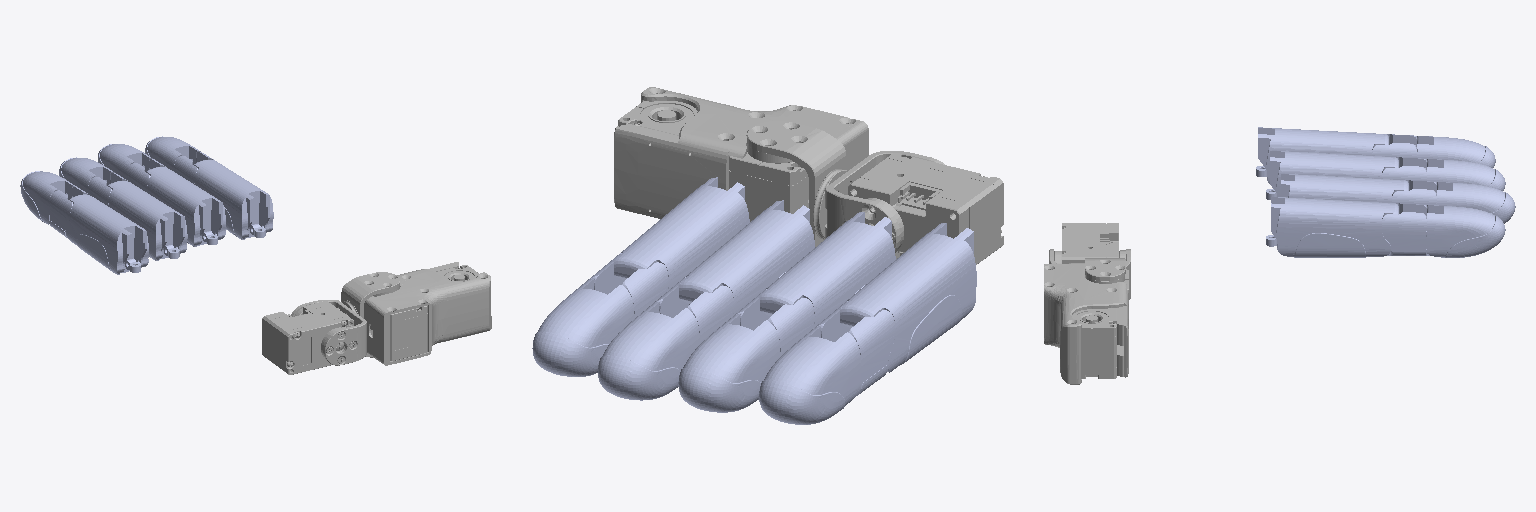
The robot description file, URDF, robot "Dex5-URDF-L":
<robot name="Dex5-URDF-L">
  <mujoco>
    <compiler meshdir="meshes" discardvisual="false"/>
  </mujoco>
  <link name="base_link00L">
    <inertial>
      <origin xyz="-0.0227590758806084 0.027982 0.0119348470032202" rpy="0 0 0"/>
      <mass value="0.732177466301149"/>
      <inertia ixx="4.73937555345999E-04" ixy="1.71786934123191E-05" ixz="9.33281320777651E-07" iyy="5.5298572334445E-04" iyz="1.82790564520838E-05" izz="8.49303641851949E-04"/>
    </inertial>
    <visual>
      <origin xyz="0 0 0" rpy="0 0 0"/>
      <geometry>
        <mesh filename="meshes/base_link00L.STL"/>
      </geometry>
      <material name="">
        <color rgba="0.752941176470588 0.752941176470588 0.752941176470588 0.7"/>
      </material>
    </visual>
    <collision>
      <origin xyz="0 0 0" rpy="0 0 0"/>
      <geometry>
        <mesh filename="meshes/base_link00L.STL"/>
      </geometry>
    </collision>
  </link>
  <link name="Link_11L">
    <inertial>
      <origin xyz="-0.008418 0.000123 -0.003247" rpy="0 0 0"/>
      <mass value="0.02363"/>
      <inertia ixx="2.641049E-06" ixy="1.9442E-08" ixz="1.8132E-07" iyy="3.607134E-06" iyz="5.837E-09" izz="3.860781E-06"/>
    </inertial>
    <visual>
      <origin xyz="0 0 0" rpy="0 0 0"/>
      <geometry>
        <mesh filename="meshes/Link_11L.STL"/>
      </geometry>
      <material name="">
        <color rgba="0.752941176470588 0.752941176470588 0.752941176470588 1"/>
      </material>
    </visual>
    <collision>
      <origin xyz="0 0 0" rpy="0 0 0"/>
      <geometry>
        <mesh filename="meshes/Link_11L.STL"/>
      </geometry>
    </collision>
  </link>
  <joint name="Yaw_11L" type="revolute">
    <origin xyz="0 0 -0.0143499999999992" rpy="0 0 0"/>
    <parent link="base_link00L"/>
    <child link="Link_11L"/>
    <axis xyz="0 0 1"/>
    <limit lower="-0.5867" upper="0.6803" effort="0.93" velocity="4.18"/>
  </joint>
  <link name="Link_12L">
    <inertial>
      <origin xyz="0.014668 0.000013 -0.004099" rpy="0 0 0"/>
      <mass value="0.015809"/>
      <inertia ixx="3.066476E-06" ixy="-4.497E-9" ixz="2.22721E-7" iyy="4.049699E-06" iyz="1.404E-9" izz="3.627081E-06"/>
    </inertial>
    <visual>
      <origin xyz="0 0 0" rpy="0 0 0"/>
      <geometry>
        <mesh filename="meshes/Link_12L.STL"/>
      </geometry>
      <material name="">
        <color rgba="0.752941176470588 0.752941176470588 0.752941176470588 1"/>
      </material>
    </visual>
    <collision>
      <origin xyz="0 0 0" rpy="0 0 0"/>
      <geometry>
        <mesh filename="meshes/Link_12L.STL"/>
      </geometry>
    </collision>
  </link>
  <joint name="Roll_12L" type="revolute">
    <origin xyz="-1.0604101991607E-05 0 0" rpy="1.5707963267949 0 0"/>
    <parent link="Link_11L"/>
    <child link="Link_12L"/>
    <axis xyz="0 0 1"/>
    <limit lower="-1.8151" upper="0" effort="0.93" velocity="4.18"/>
  </joint>
  <link name="Link_13L">
    <inertial>
      <origin xyz="0.018557 -0.006933 0.000159" rpy="0 0 0"/>
      <mass value="0.06674"/>
      <inertia ixx="9.105565E-06" ixy="-1.948696E-06" ixz="2.9291E-08" iyy="2.2925394E-05" iyz="-0.816E-09" izz="2.3878954E-05"/>
    </inertial>
    <visual>
      <origin xyz="0 0 0" rpy="0 0 0"/>
      <geometry>
        <mesh filename="meshes/Link_13L.STL"/>
      </geometry>
      <material name="">
        <color rgba="0.752941176470588 0.752941176470588 0.752941176470588 1"/>
      </material>
    </visual>
    <collision>
      <origin xyz="0 0 0" rpy="0 0 0"/>
      <geometry>
        <mesh filename="meshes/Link_13L.STL"/>
      </geometry>
    </collision>
  </link>
  <joint name="Pitch_13L" type="revolute">
    <origin xyz="0.0334999999999999 0 -0.00600000000003837" rpy="-1.57079632679489 0 0"/>
    <parent link="Link_12L"/>
    <child link="Link_13L"/>
    <axis xyz="0 0 1"/>
    <limit lower="0" upper="1.7652" effort="0.93" velocity="4.18"/>
  </joint>
  <link name="Link_14L">
    <inertial>
      <origin xyz="0.028085 0.003322 0.000472" rpy="0 0 0"/>
      <mass value="0.020073"/>
      <inertia ixx="1.93782E-06" ixy="-1.69818E-07" ixz="1.24848E-07" iyy="6.083181E-06" iyz="2.0791E-08" izz="5.614839E-06"/>
    </inertial>
    <visual>
      <origin xyz="0 0 0" rpy="0 0 0"/>
      <geometry>
        <mesh filename="meshes/Link_14L.STL"/>
      </geometry>
      <material name="">
        <color rgba="0.752941176470588 0.752941176470588 0.752941176470588 1"/>
      </material>
    </visual>
    <collision>
      <origin xyz="0 0 0" rpy="0 0 0"/>
      <geometry>
        <mesh filename="meshes/Link_14L.STL"/>
      </geometry>
    </collision>
  </link>
  <joint name="Pitch_14L" type="revolute">
    <origin xyz="0.0366088275363755 -0.00536597803648681 0" rpy="0 0 0"/>
    <parent link="Link_13L"/>
    <child link="Link_14L"/>
    <axis xyz="0 0 1"/>
    <limit lower="0" upper="1.6406" effort="0.93" velocity="4.18"/>
  </joint>
  <link name="Link_21L">
    <inertial>
      <origin xyz="0.007826 -0.000005 -0.004125" rpy="0 0 0"/>
      <mass value="0.004497"/>
      <inertia ixx="8.9889E-08" ixy="-4.9E-11" ixz="3.7079E-08" iyy="1.37514E-07" iyz="-1.18E-10" izz="9.6125E-08"/>
    </inertial>
    <visual>
      <origin xyz="0 0 0" rpy="0 0 0"/>
      <geometry>
        <mesh filename="meshes/Link_21L.STL"/>
      </geometry>
      <material name="">
        <color rgba="0.792156862745098 0.819607843137255 0.933333333333333 1"/>
      </material>
    </visual>
    <collision>
      <origin xyz="0 0 0" rpy="0 0 0"/>
      <geometry>
        <mesh filename="meshes/Link_21L.STL"/>
      </geometry>
    </collision>
  </link>
  <joint name="Roll_21L" type="revolute">
    <origin xyz="0.0100000000000016 0.0731433586578309 0.00347021644327265" rpy="-3.14159265358979 0 1.5707963267949"/>
    <parent link="base_link00L"/>
    <child link="Link_21L"/>
    <axis xyz="0 0 1"/>
    <limit lower="-0.38397" upper="0.38397" effort="0.93" velocity="0.76794"/>
  </joint>
  <link name="Link_22L">
    <inertial>
      <origin xyz="0.021242 -0.005936 0.000059" rpy="0 0 0"/>
      <mass value="0.017982"/>
      <inertia ixx="1.206794E-06" ixy="-1.30843E-07" ixz="-2.335E-09" iyy="4.081109E-06" iyz="1.219E-09" izz="4.370124E-06"/>
    </inertial>
    <visual>
      <origin xyz="0 0 0" rpy="0 0 0"/>
      <geometry>
        <mesh filename="meshes/Link_22L.STL"/>
      </geometry>
      <material name="">
        <color rgba="0.792156862745098 0.819607843137255 0.933333333333333 1"/>
      </material>
    </visual>
    <collision>
      <origin xyz="0 0 0" rpy="0 0 0"/>
      <geometry>
        <mesh filename="meshes/Link_22L.STL"/>
      </geometry>
    </collision>
  </link>
  <joint name="Pitch_22L" type="revolute">
    <origin xyz="0.00419999999999998 0 0" rpy="1.5707963267949 0 0"/>
    <parent link="Link_21L"/>
    <child link="Link_22L"/>
    <axis xyz="0 0 1"/>
    <limit lower="0" upper="1.5708" effort="0.93" velocity="3.1416"/>
  </joint>
  <link name="Link_23L">
    <inertial>
      <origin xyz="0.011393 -0.005777 0.000001" rpy="0 0 0"/>
      <mass value="0.012776"/>
      <inertia ixx="6.38115E-07" ixy="5.5121E-08" ixz="-4.97E-10" iyy="6.31505E-07" iyz="-1.43E-10" izz="8.2943E-07"/>
    </inertial>
    <visual>
      <origin xyz="0 0 0" rpy="0 0 0"/>
      <geometry>
        <mesh filename="meshes/Link_23L.STL"/>
      </geometry>
      <material name="">
        <color rgba="0.792156862745098 0.819607843137255 0.933333333333333 1"/>
      </material>
    </visual>
    <collision>
      <origin xyz="0 0 0" rpy="0 0 0"/>
      <geometry>
        <mesh filename="meshes/Link_23L.STL"/>
      </geometry>
    </collision>
  </link>
  <joint name="Pitch_23L" type="revolute">
    <origin xyz="0.039999999999998 0 0" rpy="0 0 0"/>
    <parent link="Link_22L"/>
    <child link="Link_23L"/>
    <axis xyz="0 0 1"/>
    <limit lower="0" upper="1.684242699" effort="0.93" velocity="3.3685"/>
  </joint>
  <link name="Link_24L">
    <inertial>
      <origin xyz="0.009354 -0.004824 0.000072" rpy="0 0 0"/>
      <mass value="0.00639891165893413"/>
      <inertia ixx="4.9531E-07" ixy="-1.09285E-07" ixz="8.84E-10" iyy="1.466772E-06" iyz="4.47E-10" izz="1.448234E-06"/>
    </inertial>
    <visual>
      <origin xyz="0 0 0" rpy="0 0 0"/>
      <geometry>
        <mesh filename="meshes/Link_24L.STL"/>
      </geometry>
      <material name="">
        <color rgba="0.792156862745098 0.819607843137255 0.933333333333333 1"/>
      </material>
    </visual>
    <collision>
      <origin xyz="0 0 0" rpy="0 0 0"/>
      <geometry>
        <mesh filename="meshes/Link_24L.STL"/>
      </geometry>
    </collision>
  </link>
  <joint name="Pitch_24L" type="revolute">
    <origin xyz="0.020985 0.0008043 0" rpy="0 0 0"/>
    <parent link="Link_23L"/>
    <child link="Link_24L"/>
    <axis xyz="0 0 1"/>
    <limit lower="0" upper="1.3963" effort="0.93" velocity="2.7925"/>
  </joint>
  <link name="Link_31L">
    <inertial>
      <origin xyz="0.007826 -0.000005 -0.004125" rpy="0 0 0"/>
      <mass value="0.004497"/>
      <inertia ixx="8.9889E-08" ixy="-4.9E-11" ixz="3.7079E-08" iyy="1.37514E-07" iyz="-1.18E-10" izz="9.6125E-08"/>
    </inertial>
    <visual>
      <origin xyz="0 0 0" rpy="0 0 0"/>
      <geometry>
        <mesh filename="meshes/Link_31L.STL"/>
      </geometry>
      <material name="">
        <color rgba="0.792156862745098 0.819607843137255 0.933333333333333 1"/>
      </material>
    </visual>
    <collision>
      <origin xyz="0 0 0" rpy="0 0 0"/>
      <geometry>
        <mesh filename="meshes/Link_31L.STL"/>
      </geometry>
    </collision>
  </link>
  <joint name="Roll_31L" type="revolute">
    <origin xyz="-0.012 0.077143 0.0034702" rpy="-3.1416 0 1.5708"/>
    <parent link="base_link00L"/>
    <child link="Link_31L"/>
    <axis xyz="0 0 1"/>
    <limit lower="-0.38397" upper="0.38397" effort="0.93" velocity="0.76794"/>
  </joint>
  <link name="Link_32L">
    <inertial>
      <origin xyz="0.021242 -0.005936 0.000059" rpy="0 0 0"/>
      <mass value="0.017982"/>
      <inertia ixx="1.206794E-06" ixy="-1.30843E-07" ixz="-2.335E-09" iyy="4.081109E-06" iyz="1.219E-09" izz="4.370124E-06"/>
    </inertial>
    <visual>
      <origin xyz="0 0 0" rpy="0 0 0"/>
      <geometry>
        <mesh filename="meshes/Link_32L.STL"/>
      </geometry>
      <material name="">
        <color rgba="0.792156862745098 0.819607843137255 0.933333333333333 1"/>
      </material>
    </visual>
    <collision>
      <origin xyz="0 0 0" rpy="0 0 0"/>
      <geometry>
        <mesh filename="meshes/Link_32L.STL"/>
      </geometry>
    </collision>
  </link>
  <joint name="Pitch_32L" type="revolute">
    <origin xyz="0.00419999999999998 0 0" rpy="1.5707963267949 0 0"/>
    <parent link="Link_31L"/>
    <child link="Link_32L"/>
    <axis xyz="0 0 1"/>
    <limit lower="0" upper="1.5708" effort="0.93" velocity="3.1416"/>
  </joint>
  <link name="Link_33L">
    <inertial>
      <origin xyz="0.011393 -0.005777 0.000001" rpy="0 0 0"/>
      <mass value="0.012776"/>
      <inertia ixx="6.38115E-07" ixy="5.5121E-08" ixz="-4.97E-10" iyy="6.31505E-07" iyz="-1.43E-10" izz="8.2943E-07"/>
    </inertial>
    <visual>
      <origin xyz="0 0 0" rpy="0 0 0"/>
      <geometry>
        <mesh filename="meshes/Link_33L.STL"/>
      </geometry>
      <material name="">
        <color rgba="0.792156862745098 0.819607843137255 0.933333333333333 1"/>
      </material>
    </visual>
    <collision>
      <origin xyz="0 0 0" rpy="0 0 0"/>
      <geometry>
        <mesh filename="meshes/Link_33L.STL"/>
      </geometry>
    </collision>
  </link>
  <joint name="Pitch_33L" type="revolute">
    <origin xyz="0.04 0 0" rpy="0 0 0"/>
    <parent link="Link_32L"/>
    <child link="Link_33L"/>
    <axis xyz="0 0 1"/>
    <limit lower="0" upper="1.684242699" effort="0.93" velocity="3.3685"/>
  </joint>
  <link name="Link_34L">
    <inertial>
      <origin xyz="0.009354 -0.004824 0.000072" rpy="0 0 0"/>
      <mass value="0.00639891165893413"/>
      <inertia ixx="4.9531E-07" ixy="-1.09285E-07" ixz="8.84E-10" iyy="1.466772E-06" iyz="4.47E-10" izz="1.448234E-06"/>
    </inertial>
    <visual>
      <origin xyz="0 0 0" rpy="0 0 0"/>
      <geometry>
        <mesh filename="meshes/Link_34L.STL"/>
      </geometry>
      <material name="">
        <color rgba="0.792156862745098 0.819607843137255 0.933333333333333 1"/>
      </material>
    </visual>
    <collision>
      <origin xyz="0 0 0" rpy="0 0 0"/>
      <geometry>
        <mesh filename="meshes/Link_34L.STL"/>
      </geometry>
    </collision>
  </link>
  <joint name="Pitch_34L" type="revolute">
    <origin xyz="0.020985 0.0008043 0" rpy="0 0 0"/>
    <parent link="Link_33L"/>
    <child link="Link_34L"/>
    <axis xyz="0 0 1"/>
    <limit lower="0" upper="1.3963" effort="0.93" velocity="2.7925"/>
  </joint>
  <link name="Link_41L">
    <inertial>
      <origin xyz="0.007826 -0.000005 -0.004125" rpy="0 0 0"/>
      <mass value="0.004497"/>
      <inertia ixx="8.9889E-08" ixy="-4.9E-11" ixz="3.7079E-08" iyy="1.37514E-07" iyz="-1.18E-10" izz="9.6125E-08"/>
    </inertial>
    <visual>
      <origin xyz="0 0 0" rpy="0 0 0"/>
      <geometry>
        <mesh filename="meshes/Link_41L.STL"/>
      </geometry>
      <material name="">
        <color rgba="0.792156862745098 0.819607843137255 0.933333333333333 1"/>
      </material>
    </visual>
    <collision>
      <origin xyz="0 0 0" rpy="0 0 0"/>
      <geometry>
        <mesh filename="meshes/Link_41L.STL"/>
      </geometry>
    </collision>
  </link>
  <joint name="Link_41L" type="revolute">
    <origin xyz="-0.034 0.073143 0.0034702" rpy="-3.1416 0 1.5708"/>
    <parent link="base_link00L"/>
    <child link="Link_41L"/>
    <axis xyz="0 0 1"/>
    <limit lower="-0.38397" upper="0.38397" effort="0.93" velocity="0.76794"/>
  </joint>
  <link name="Link_42L">
    <inertial>
      <origin xyz="0.021242 -0.005936 0.000059" rpy="0 0 0"/>
      <mass value="0.017982"/>
      <inertia ixx="1.206794E-06" ixy="-1.30843E-07" ixz="-2.335E-09" iyy="4.081109E-06" iyz="1.219E-09" izz="4.370124E-06"/>
    </inertial>
    <visual>
      <origin xyz="0 0 0" rpy="0 0 0"/>
      <geometry>
        <mesh filename="meshes/Link_42L.STL"/>
      </geometry>
      <material name="">
        <color rgba="0.792156862745098 0.819607843137255 0.933333333333333 1"/>
      </material>
    </visual>
    <collision>
      <origin xyz="0 0 0" rpy="0 0 0"/>
      <geometry>
        <mesh filename="meshes/Link_42L.STL"/>
      </geometry>
    </collision>
  </link>
  <joint name="Pitch_42L" type="revolute">
    <origin xyz="0.00419999999999998 0 0" rpy="1.5707963267949 0 0"/>
    <parent link="Link_41L"/>
    <child link="Link_42L"/>
    <axis xyz="0 0 1"/>
    <limit lower="0" upper="1.5708" effort="0.93" velocity="3.1416"/>
  </joint>
  <link name="Link_43L">
    <inertial>
      <origin xyz="0.011393 -0.005777 0.000001" rpy="0 0 0"/>
      <mass value="0.012776"/>
      <inertia ixx="6.38115E-07" ixy="5.5121E-08" ixz="-4.97E-10" iyy="6.31505E-07" iyz="-1.43E-10" izz="8.2943E-07"/>
    </inertial>
    <visual>
      <origin xyz="0 0 0" rpy="0 0 0"/>
      <geometry>
        <mesh filename="meshes/Link_43L.STL"/>
      </geometry>
      <material name="">
        <color rgba="0.792156862745098 0.819607843137255 0.933333333333333 1"/>
      </material>
    </visual>
    <collision>
      <origin xyz="0 0 0" rpy="0 0 0"/>
      <geometry>
        <mesh filename="meshes/Link_43L.STL"/>
      </geometry>
    </collision>
  </link>
  <joint name="Pitch_43L" type="revolute">
    <origin xyz="0.039999999999998 0 0" rpy="0 0 0"/>
    <parent link="Link_42L"/>
    <child link="Link_43L"/>
    <axis xyz="0 0 1"/>
    <limit lower="0" upper="1.684242699" effort="0.93" velocity="3.3685"/>
  </joint>
  <link name="Link_44L">
    <inertial>
      <origin xyz="0.009354 -0.004824 0.000072" rpy="0 0 0"/>
      <mass value="0.00639891165893413"/>
      <inertia ixx="4.9531E-07" ixy="-1.09285E-07" ixz="8.84E-10" iyy="1.466772E-06" iyz="4.47E-10" izz="1.448234E-06"/>
    </inertial>
    <visual>
      <origin xyz="0 0 0" rpy="0 0 0"/>
      <geometry>
        <mesh filename="meshes/Link_44L.STL"/>
      </geometry>
      <material name="">
        <color rgba="0.792156862745098 0.819607843137255 0.933333333333333 1"/>
      </material>
    </visual>
    <collision>
      <origin xyz="0 0 0" rpy="0 0 0"/>
      <geometry>
        <mesh filename="meshes/Link_44L.STL"/>
      </geometry>
    </collision>
  </link>
  <joint name="Pitch_44L" type="revolute">
    <origin xyz="0.0209845918681 0.000804303505750904 0" rpy="0 0 0"/>
    <parent link="Link_43L"/>
    <child link="Link_44L"/>
    <axis xyz="0 0 1"/>
    <limit lower="0" upper="1.3963" effort="0.93" velocity="2.7925"/>
  </joint>
  <link name="Link_51L">
    <inertial>
      <origin xyz="0.007826 -0.000005 -0.004125" rpy="0 0 0"/>
      <mass value="0.004497"/>
      <inertia ixx="8.9889E-08" ixy="-4.9E-11" ixz="3.7079E-08" iyy="1.37514E-07" iyz="-1.18E-10" izz="9.6125E-08"/>
    </inertial>
    <visual>
      <origin xyz="0 0 0" rpy="0 0 0"/>
      <geometry>
        <mesh filename="meshes/Link_51L.STL"/>
      </geometry>
      <material name="">
        <color rgba="0.792156862745098 0.819607843137255 0.933333333333333 1"/>
      </material>
    </visual>
    <collision>
      <origin xyz="0 0 0" rpy="0 0 0"/>
      <geometry>
        <mesh filename="meshes/Link_51L.STL"/>
      </geometry>
    </collision>
  </link>
  <joint name="Roll_51L" type="revolute">
    <origin xyz="-0.0559999999999983 0.069143358657831 0.00347021644327289" rpy="-3.14159265358979 0 1.5707963267949"/>
    <parent link="base_link00L"/>
    <child link="Link_51L"/>
    <axis xyz="0 0 1"/>
    <limit lower="-0.38397" upper="0.38397" effort="0.93" velocity="0.767944858"/>
  </joint>
  <link name="Link_52L">
    <inertial>
      <origin xyz="0.021242 -0.005936 0.000059" rpy="0 0 0"/>
      <mass value="0.017982"/>
      <inertia ixx="1.206794E-06" ixy="-1.30843E-07" ixz="-2.335E-09" iyy="4.081109E-06" iyz="1.219E-09" izz="4.370124E-06"/>
    </inertial>
    <visual>
      <origin xyz="0 0 0" rpy="0 0 0"/>
      <geometry>
        <mesh filename="meshes/Link_52L.STL"/>
      </geometry>
      <material name="">
        <color rgba="0.792156862745098 0.819607843137255 0.933333333333333 1"/>
      </material>
    </visual>
    <collision>
      <origin xyz="0 0 0" rpy="0 0 0"/>
      <geometry>
        <mesh filename="meshes/Link_52L.STL"/>
      </geometry>
    </collision>
  </link>
  <joint name="Pitch_52L" type="revolute">
    <origin xyz="0.00419999999999998 0 0" rpy="1.5707963267949 0 0"/>
    <parent link="Link_51L"/>
    <child link="Link_52L"/>
    <axis xyz="0 0 1"/>
    <limit lower="0" upper="1.5708" effort="0.93" velocity="3.1416"/>
  </joint>
  <link name="Link_53L">
    <inertial>
      <origin xyz="0.011393 -0.005777 0.000001" rpy="0 0 0"/>
      <mass value="0.012776"/>
      <inertia ixx="6.38115E-07" ixy="5.5121E-08" ixz="-4.97E-10" iyy="6.31505E-07" iyz="-1.43E-10" izz="8.2943E-07"/>
    </inertial>
    <visual>
      <origin xyz="0 0 0" rpy="0 0 0"/>
      <geometry>
        <mesh filename="meshes/Link_53L.STL"/>
      </geometry>
      <material name="">
        <color rgba="0.792156862745098 0.819607843137255 0.933333333333333 1"/>
      </material>
    </visual>
    <collision>
      <origin xyz="0 0 0" rpy="0 0 0"/>
      <geometry>
        <mesh filename="meshes/Link_53L.STL"/>
      </geometry>
    </collision>
  </link>
  <joint name="Pitch_53L" type="revolute">
    <origin xyz="0.039999999999998 0 0" rpy="0 0 0"/>
    <parent link="Link_52L"/>
    <child link="Link_53L"/>
    <axis xyz="0 0 1"/>
    <limit lower="0" upper="1.684242699" effort="0.93" velocity="3.3685"/>
  </joint>
  <link name="Link_54L">
    <inertial>
      <origin xyz="0.009354 -0.004824 0.000072" rpy="0 0 0"/>
      <mass value="0.00639891165893413"/>
      <inertia ixx="4.9531E-07" ixy="-1.09285E-07" ixz="8.84E-10" iyy="1.466772E-06" iyz="4.47E-10" izz="1.448234E-06"/>
    </inertial>
    <visual>
      <origin xyz="0 0 0" rpy="0 0 0"/>
      <geometry>
        <mesh filename="meshes/Link_54L.STL"/>
      </geometry>
      <material name="">
        <color rgba="0.792156862745098 0.819607843137255 0.933333333333333 1"/>
      </material>
    </visual>
    <collision>
      <origin xyz="0 0 0" rpy="0 0 0"/>
      <geometry>
        <mesh filename="meshes/Link_54L.STL"/>
      </geometry>
    </collision>
  </link>
  <joint name="Pitch_54L" type="revolute">
    <origin xyz="0.0209845918681 0.000804303505750904 0" rpy="0 0 0"/>
    <parent link="Link_53L"/>
    <child link="Link_54L"/>
    <axis xyz="0 0 1"/>
    <limit lower="0" upper="1.3963" effort="0.93" velocity="2.7925"/>
  </joint>
</robot>

--- What the picture shows (computed from the rendered views, not written in the file) ---
3 views of the same robot in one strip: view 1: azimuth 30°, elevation 25°; view 2: azimuth 150°, elevation 25°; view 3: azimuth 270°, elevation 25° (orthographic).
Robot: Dex5-URDF-L — 21 links, 20 joints (20 revolute); root link base_link00L; default pose: every joint at zero.
Links seen in each view (by area): view 1: Link_13L, Link_11L, Link_52L, Link_22L, Link_12L, Link_32L, Link_42L, Link_54L, Link_44L, Link_34L, Link_24L, Link_53L (+2 smaller); view 2: Link_13L, Link_52L, Link_11L, Link_12L, Link_42L, Link_32L, Link_22L, Link_54L, Link_44L, Link_34L, Link_24L, Link_53L (+3 smaller); view 3: Link_13L, Link_22L, Link_24L, Link_52L, Link_42L, Link_32L, Link_11L, Link_23L, Link_34L, Link_44L, Link_54L, Link_12L (+3 smaller).
Link boxes in pixels (left/top/right/bottom): Link_13L: left=364, top=262, right=491, bottom=365; Link_11L: left=262, top=301, right=353, bottom=374; Link_52L: left=65, top=194, right=148, bottom=274; Link_22L: left=194, top=160, right=273, bottom=239; Link_12L: left=291, top=272, right=399, bottom=365; Link_32L: left=146, top=167, right=225, bottom=246; Link_42L: left=108, top=181, right=187, bottom=260; Link_54L: left=20, top=171, right=74, bottom=224; Link_44L: left=59, top=157, right=114, bottom=192; Link_34L: left=98, top=144, right=152, bottom=179; Link_24L: left=145, top=136, right=200, bottom=170; Link_53L: left=50, top=186, right=93, bottom=237; Link_13L: left=614, top=87, right=868, bottom=221; Link_52L: left=840, top=223, right=976, bottom=372; Link_11L: left=848, top=153, right=1003, bottom=264; Link_12L: left=746, top=121, right=944, bottom=252; Link_42L: left=760, top=212, right=895, bottom=328; Link_32L: left=679, top=200, right=814, bottom=315; Link_22L: left=614, top=177, right=749, bottom=290; Link_54L: left=759, top=326, right=860, bottom=424; Link_44L: left=678, top=314, right=780, bottom=412; Link_34L: left=598, top=302, right=699, bottom=400; Link_24L: left=532, top=278, right=634, bottom=376; Link_53L: left=816, top=301, right=894, bottom=395; Link_13L: left=1044, top=263, right=1128, bottom=384; Link_22L: left=1271, top=197, right=1398, bottom=257; Link_24L: left=1426, top=205, right=1505, bottom=257; Link_52L: left=1258, top=127, right=1388, bottom=183; Link_42L: left=1270, top=150, right=1398, bottom=196; Link_32L: left=1281, top=174, right=1408, bottom=202; Link_11L: left=1054, top=223, right=1125, bottom=263; Link_23L: left=1382, top=203, right=1429, bottom=255; Link_34L: left=1437, top=182, right=1515, bottom=223; Link_44L: left=1427, top=159, right=1505, bottom=190; Link_54L: left=1417, top=136, right=1495, bottom=167; Link_12L: left=1049, top=249, right=1130, bottom=299.
Size in the robot's own frame: 0.1453 by 0.1898 by 0.0524 metres.
19 mesh visuals loaded from 21 distinct referenced files (19 binary STL); not drawn: 2 (reference not matched to a file when rendering).